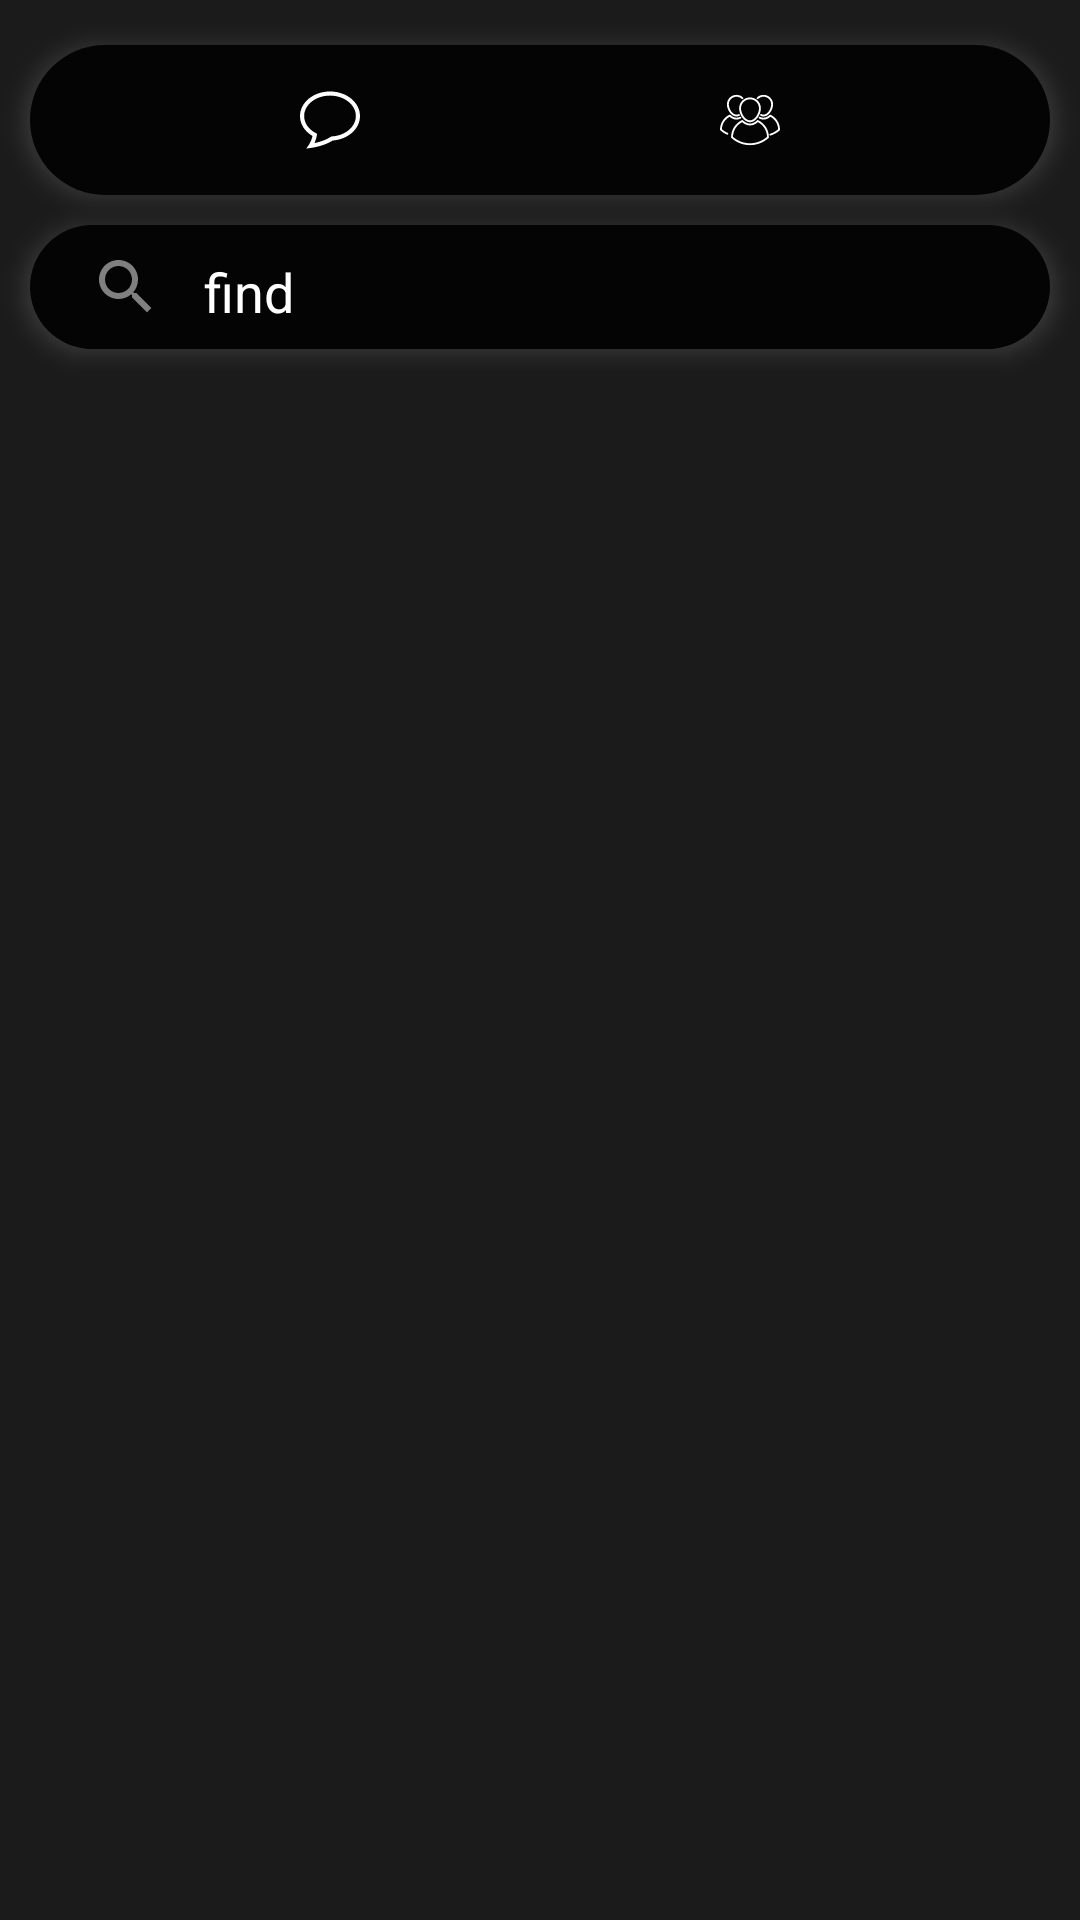

Named icons in this screenshot (1080x1920) and their bounding boxes, (x1,y1,x2,y2):
message: (300,91,360,149)
